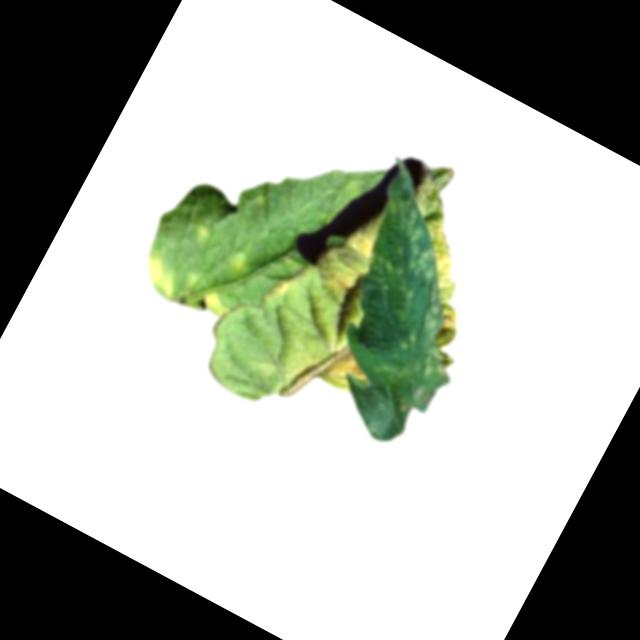Leaf_Mold: (376, 206, 505, 355), (306, 206, 390, 307), (312, 334, 381, 399), (258, 253, 311, 315), (137, 248, 190, 301), (194, 281, 236, 321), (221, 242, 261, 279)
